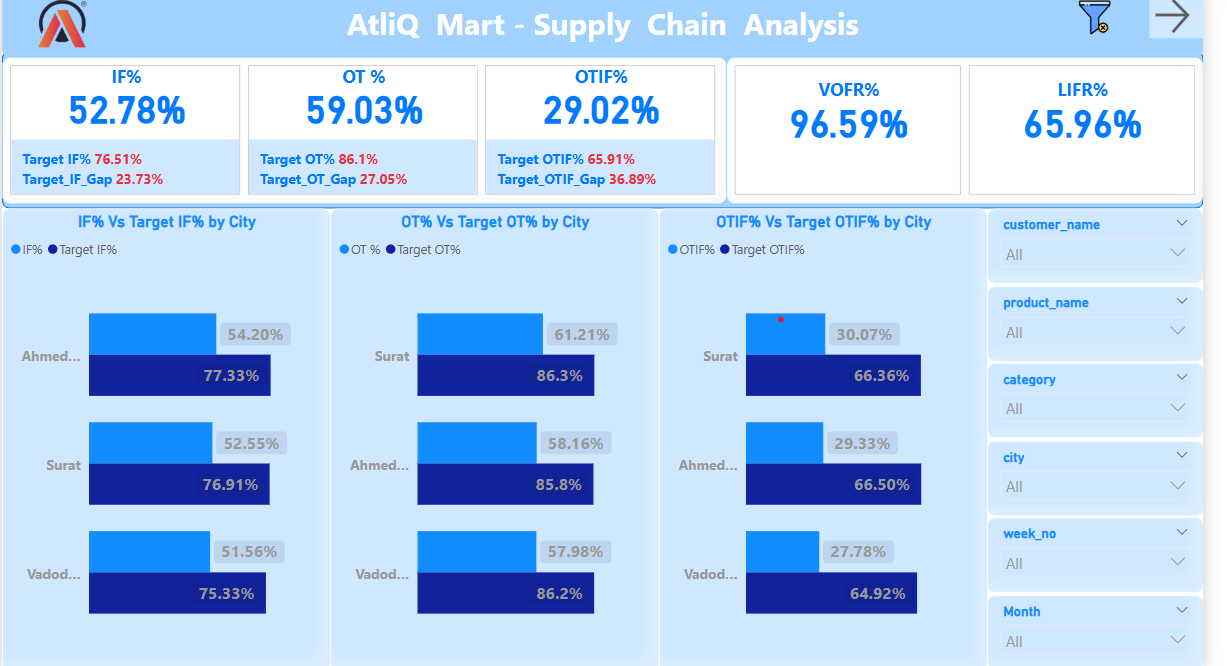

Layout of this report page (visuals, bound fields, positions):
{"tool":"powerbi","page":{"name":"Overview","canvas":[1280,720],"ordinal":1},"visuals":[{"type":"shape","box":[0,60.7,1279.7,167.8],"z":0},{"type":"cardVisual","fields":{"Data":["Measure.IF%","Measure.OT %","Measure.OTIF%"]},"box":[0,67.1,771.7,156.6],"z":1000},{"type":"cardVisual","fields":{"Data":["Measure.VOFR%","Measure.LIFR%"]},"box":[771.7,67.1,508.1,156.6],"z":2000},{"type":"textbox","box":[0,0,1280,66.7],"z":3000},{"type":"image","box":[0,0,129.4,62.3],"z":4000},{"type":"clusteredBarChart","title":"IF% Vs Target IF% by City","fields":{"Y":["Measure.IF%","Measure.Target IF%"],"Category":["dim_customers.city"]},"box":[0,228.5,350,492.1],"z":5000},{"type":"clusteredBarChart","title":"OT% Vs Target OT% by City","fields":{"Category":["dim_customers.city"],"Y":["Measure.OT %","Measure.Target OT%"]},"box":[349.9,228.5,349.9,492.1],"z":6000},{"type":"clusteredBarChart","title":"OTIF% Vs Target OTIF% by City","fields":{"Category":["dim_customers.city"],"Y":["Measure.OTIF%","Measure.Target OTIF%"]},"box":[699.8,228.5,349.9,492.1],"z":7000},{"type":"slicer","fields":{"Values":["dim_customers.customer_name"]},"box":[1049.7,228.5,230.1,79.9],"z":8000},{"type":"slicer","fields":{"Values":["dim_products.product_name"]},"box":[1049.7,310.8,230.1,79.9],"z":9000},{"type":"slicer","fields":{"Values":["dim_products.category"]},"box":[1049.7,393.1,230.1,79.9],"z":10000},{"type":"slicer","fields":{"Values":["dim_customers.city"]},"box":[1049.7,475.5,230.1,79.9],"z":11000},{"type":"slicer","fields":{"Values":["dim_date.week_no"]},"box":[1049.7,557.8,230.1,79.9],"z":12000},{"type":"slicer","fields":{"Values":["dim_date.Month"]},"box":[1049.7,640,230.1,80],"z":13000},{"type":"image","box":[1123.2,1.6,81.5,46.3],"z":14000},{"type":"actionButton","box":[1222.1,0,58.5,47.1],"z":15000}]}

Visuals, with their boxes on the page's 1280x720 design canvas (x1, y1, x2, y2). These are canvas units, not pixel positions in the 1227x666 screenshot, which may show the page scaled, cropped or inside an application window:
shape: (left=0, top=61, right=1280, bottom=228)
cardVisual - Measure.IF% x Measure.OT %: (left=0, top=67, right=772, bottom=224)
cardVisual - Measure.VOFR% x Measure.LIFR%: (left=772, top=67, right=1280, bottom=224)
textbox: (left=0, top=0, right=1280, bottom=67)
image: (left=0, top=0, right=129, bottom=62)
"IF% Vs Target IF% by City" clusteredBarChart: (left=0, top=228, right=350, bottom=721)
"OT% Vs Target OT% by City" clusteredBarChart: (left=350, top=228, right=700, bottom=721)
"OTIF% Vs Target OTIF% by City" clusteredBarChart: (left=700, top=228, right=1050, bottom=721)
slicer - dim_customers.customer_name: (left=1050, top=228, right=1280, bottom=308)
slicer - dim_products.product_name: (left=1050, top=311, right=1280, bottom=391)
slicer - dim_products.category: (left=1050, top=393, right=1280, bottom=473)
slicer - dim_customers.city: (left=1050, top=476, right=1280, bottom=555)
slicer - dim_date.week_no: (left=1050, top=558, right=1280, bottom=638)
slicer - dim_date.Month: (left=1050, top=640, right=1280, bottom=720)
image: (left=1123, top=2, right=1205, bottom=48)
actionButton: (left=1222, top=0, right=1281, bottom=47)
